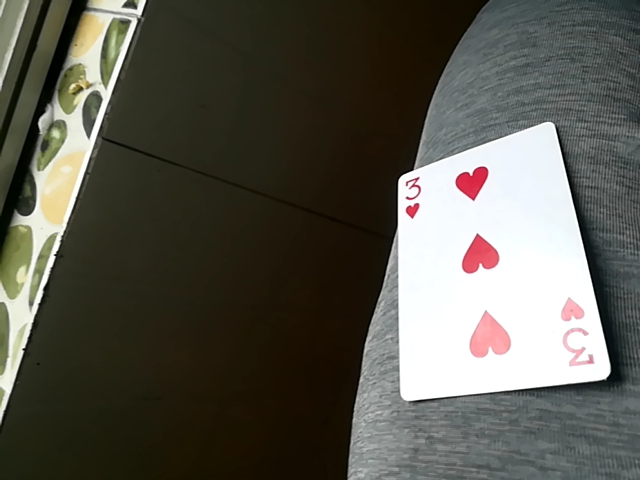hx 3: (391, 117, 605, 404)
